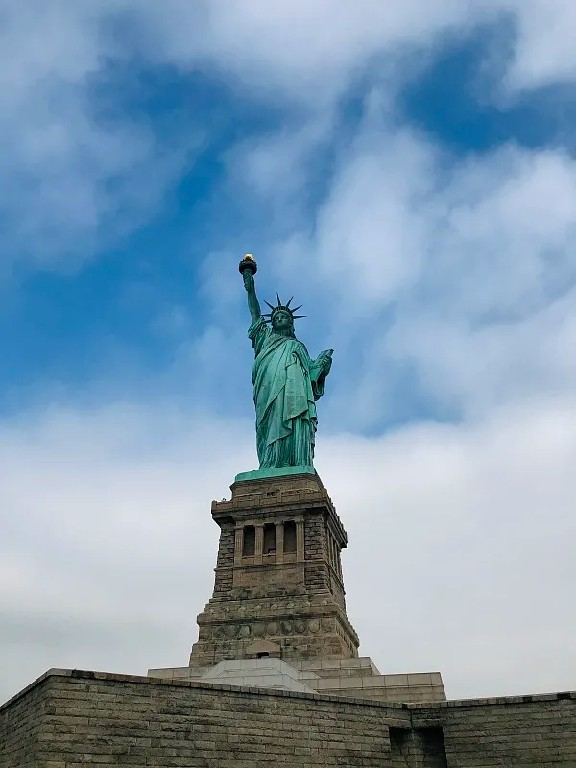SL: (189, 252, 359, 666)
